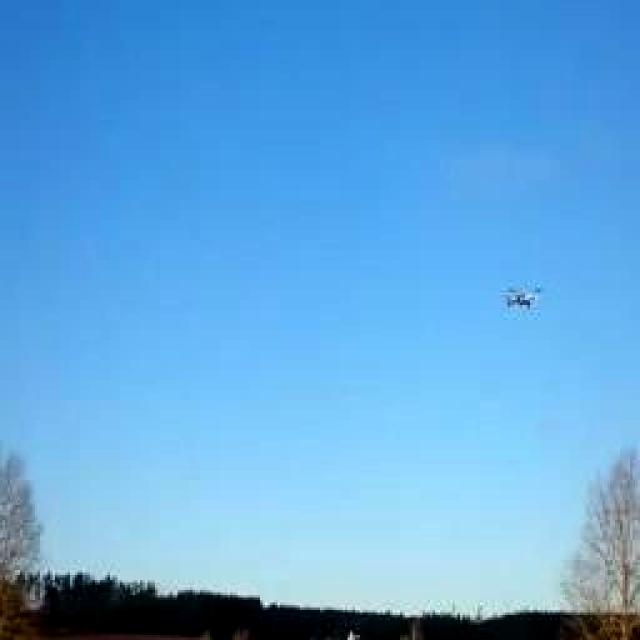bird: (485, 260, 558, 325)
